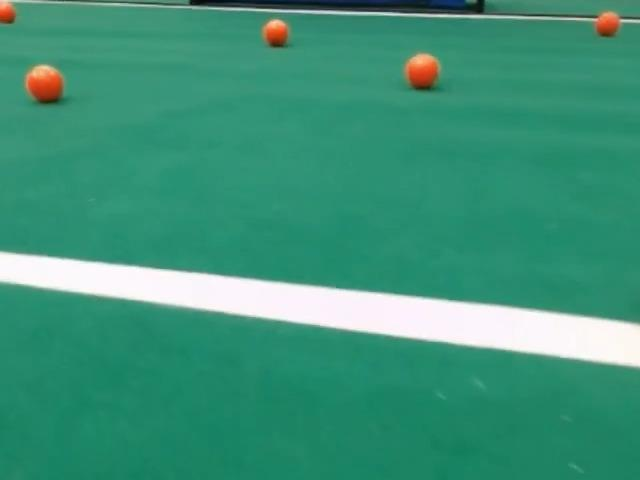Ball: (25, 65, 64, 103), (405, 53, 440, 89), (262, 19, 288, 47), (595, 11, 620, 36), (0, 1, 16, 24)
